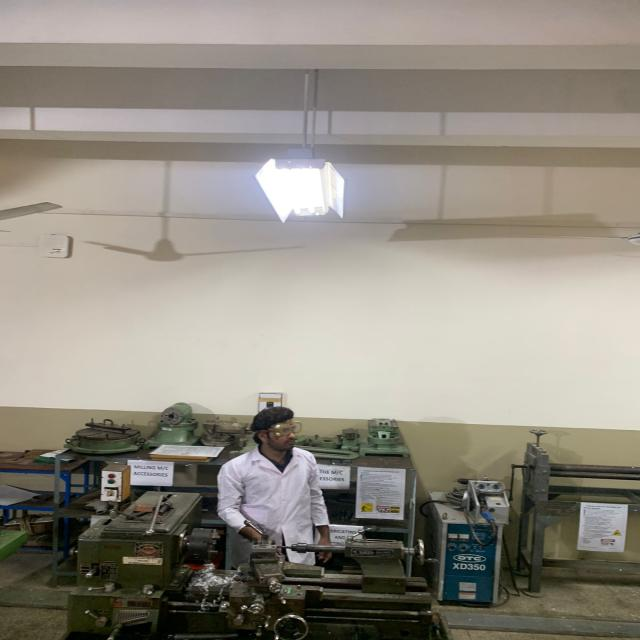googles: (268, 419, 305, 438)
labcoat: (215, 443, 332, 569)
